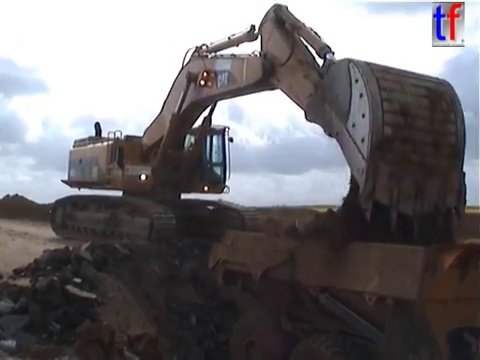excavator: (45, 1, 470, 252)
truck: (204, 210, 480, 360)
